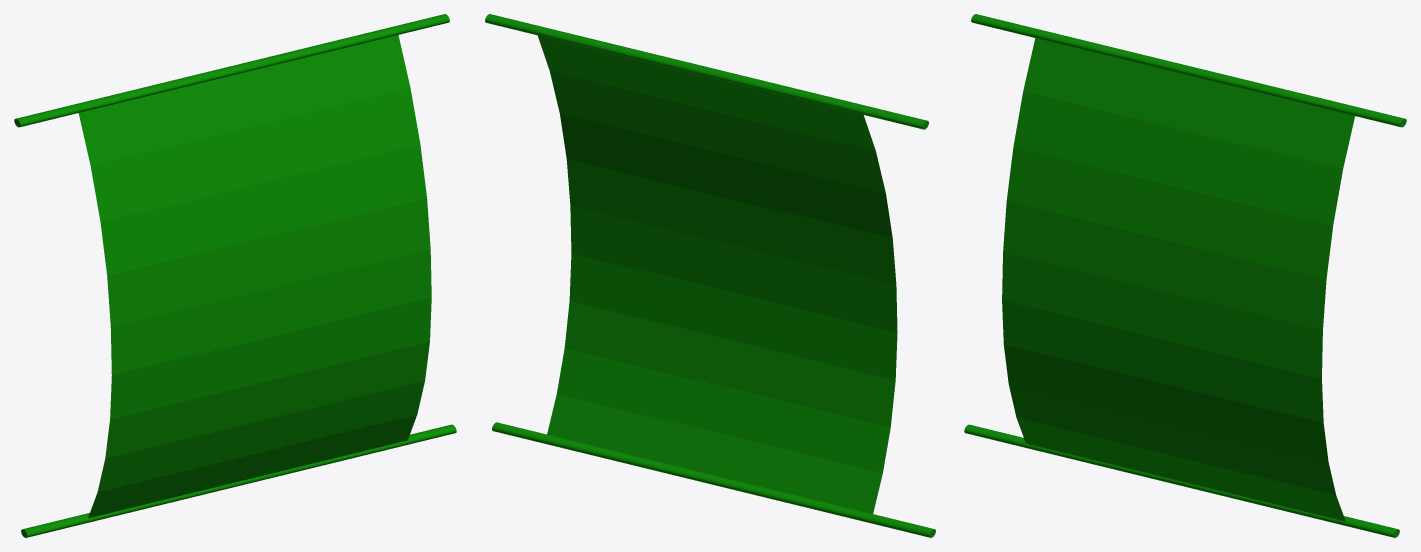
The model's file is Verde2.fbx.
3 renders of one model, left to right at view 1: azimuth 30°, elevation 25°; view 2: azimuth 150°, elevation 25°; view 3: azimuth 330°, elevation 25°, orthographic.
Visible parts, largest first — view 1: Vela_Verde; view 2: Vela_Verde; view 3: Vela_Verde.
Boxes of the visible parts, left/top/right/bottom form: Vela_Verde: left=14, top=14, right=456, bottom=537; Vela_Verde: left=485, top=14, right=935, bottom=537; Vela_Verde: left=964, top=14, right=1406, bottom=537.
Bounding box in the file's own units: 5.88 × 5.41 × 0.8653.
